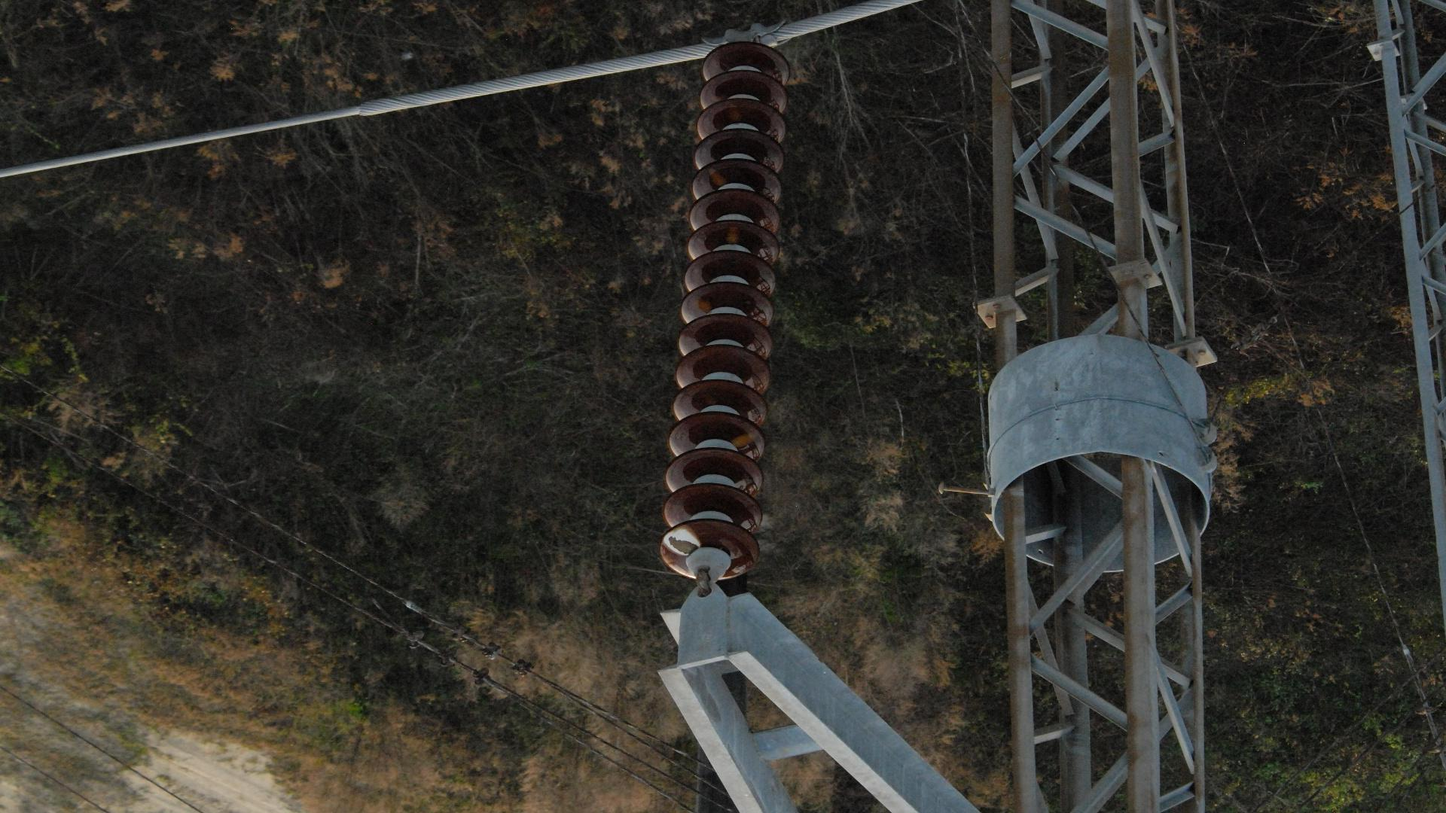insulator: (650, 35, 798, 590)
insulator_flashover: (660, 522, 704, 557), (731, 431, 757, 449)
